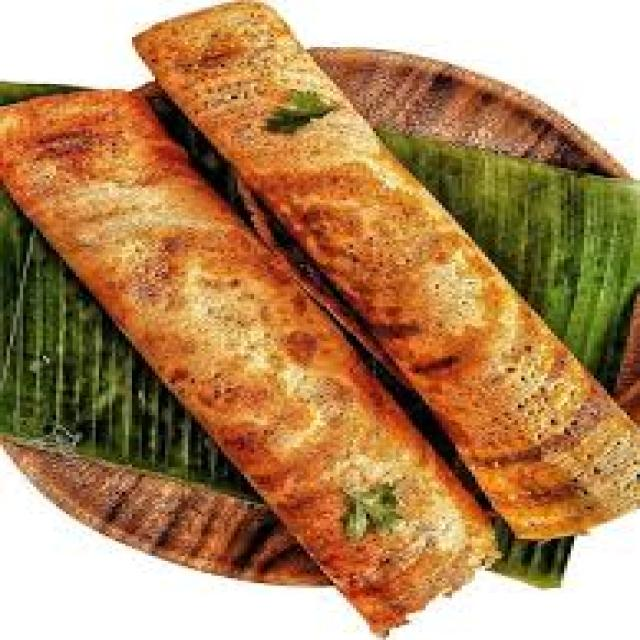DOSA: (135, 0, 637, 536), (0, 89, 495, 628)
